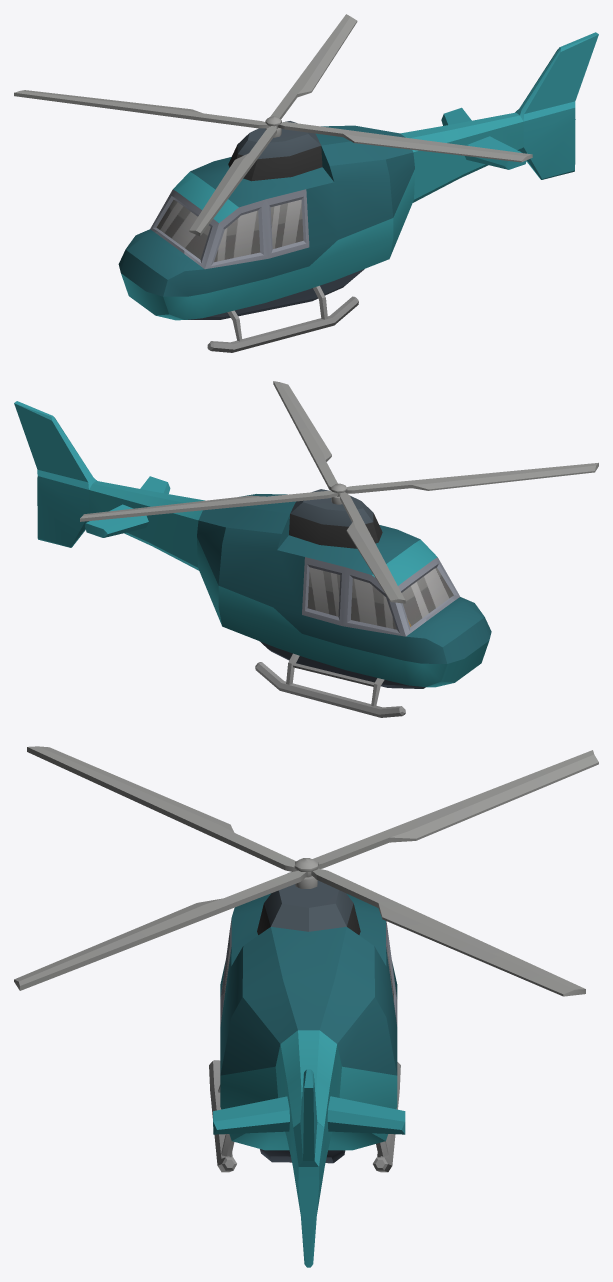
Rendered from Helicopter_2_D.fbx.
3 views of the same model, one above another, from view 1: azimuth 30°, elevation 25°; view 2: azimuth 150°, elevation 25°; view 3: azimuth 270°, elevation 25° (orthographic). The views are drawn at different scales.
Visible parts, largest first — view 1: Helicopter_2_D, Rotator_main; view 2: Helicopter_2_D, Rotator_main; view 3: Helicopter_2_D, Rotator_main.
Part boxes in pixels (<box>): Helicopter_2_D: <box>118,32,598,352</box>; Rotator_main: <box>14,14,532,236</box>; Helicopter_2_D: <box>14,401,491,717</box>; Rotator_main: <box>80,381,598,603</box>; Helicopter_2_D: <box>209,880,405,1267</box>; Rotator_main: <box>14,746,598,996</box>.
Bounding box in the file's own units: 1045 × 402 × 719.
